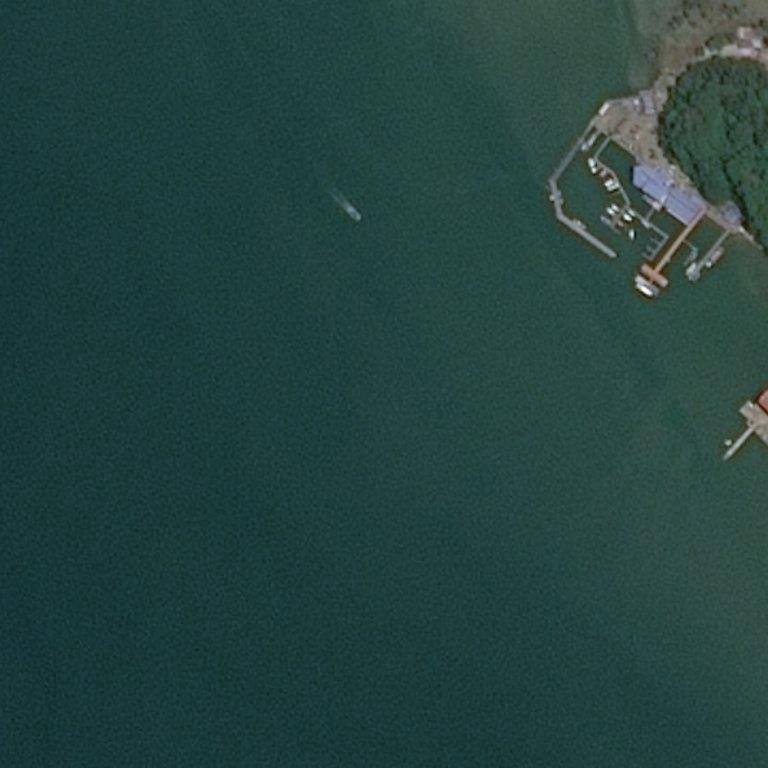ship: (344, 204, 363, 223), (357, 218, 361, 222), (350, 206, 354, 210), (346, 56, 349, 61)
